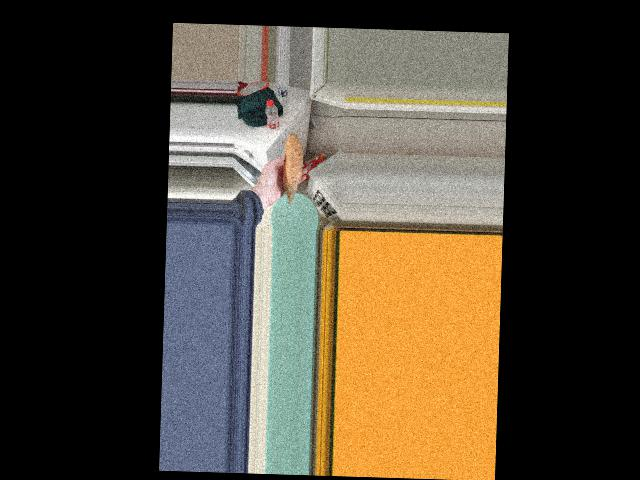sweet_potato: (277, 141, 300, 189)
